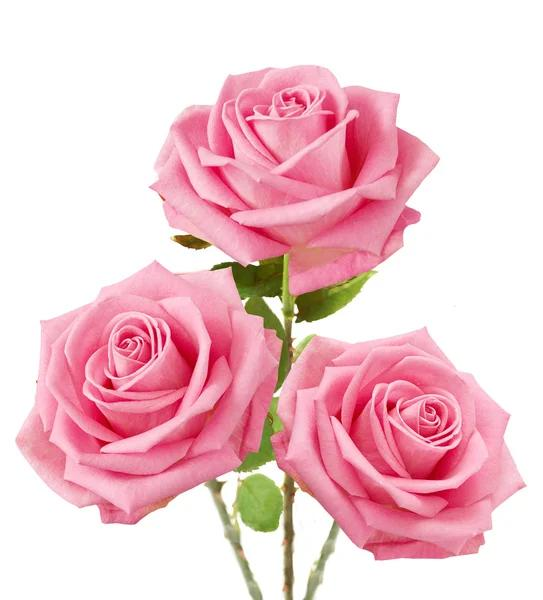Rose: (8, 250, 280, 558), (160, 42, 448, 300), (284, 329, 525, 582)
